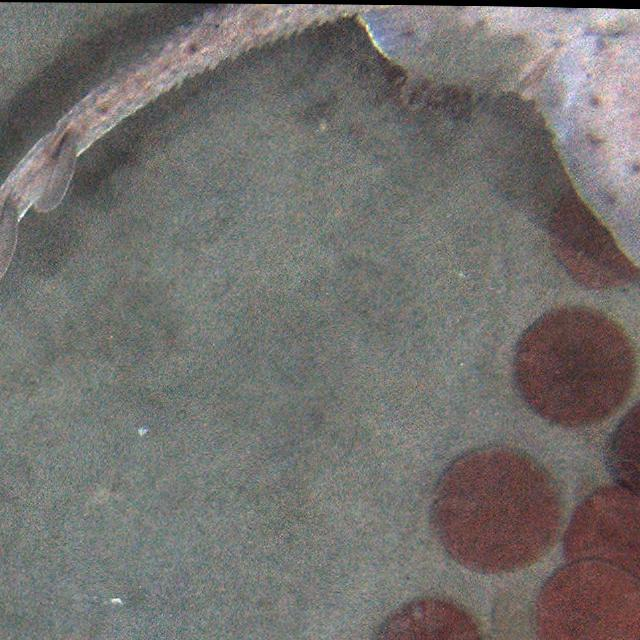skate: (4, 6, 640, 282)
